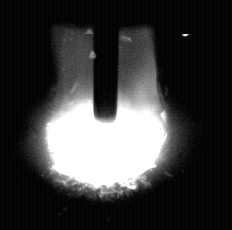arame: (94, 0, 119, 122)
poca: (47, 0, 165, 230)
